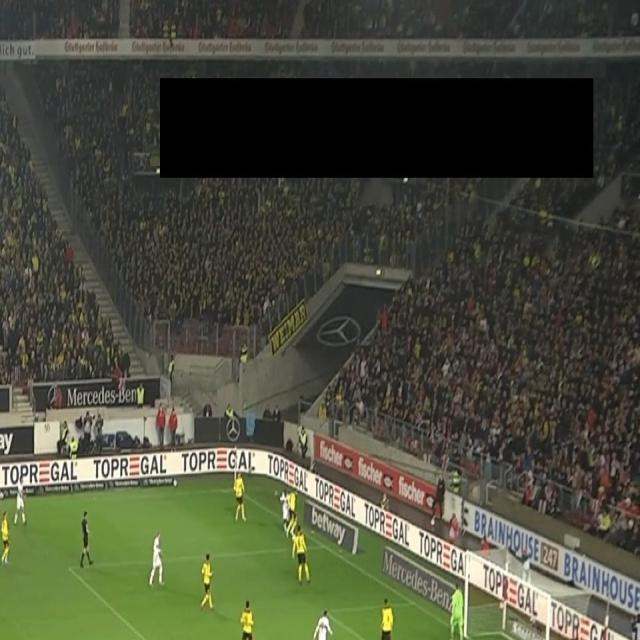ball: (291, 533, 297, 543)
